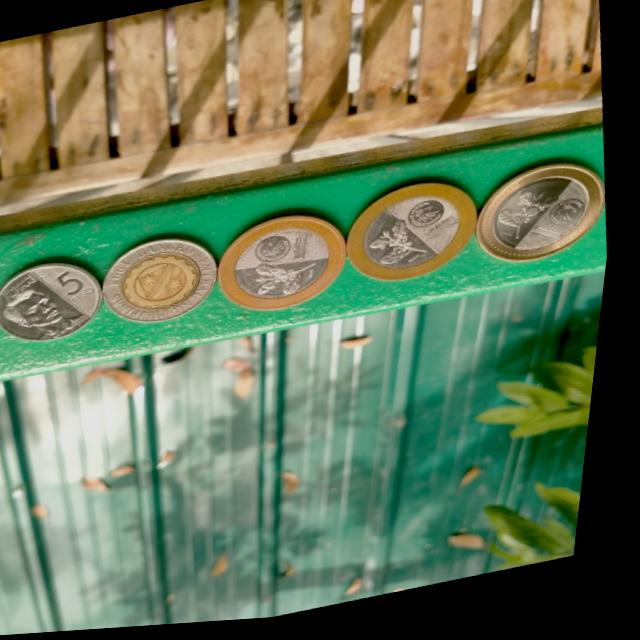20_New_Back: (365, 218, 434, 283)
5_New_Front: (54, 264, 104, 310)
